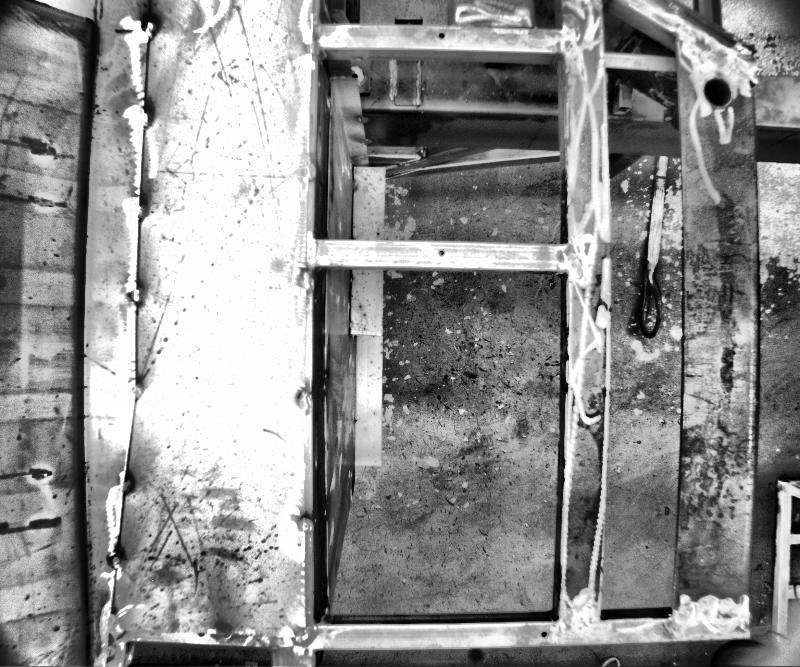hole: (699, 76, 733, 111), (437, 249, 445, 257), (540, 629, 548, 636), (437, 32, 445, 39)
